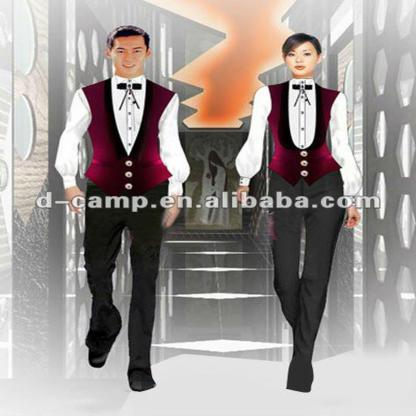face: (115, 35, 144, 77), (287, 42, 320, 74)
